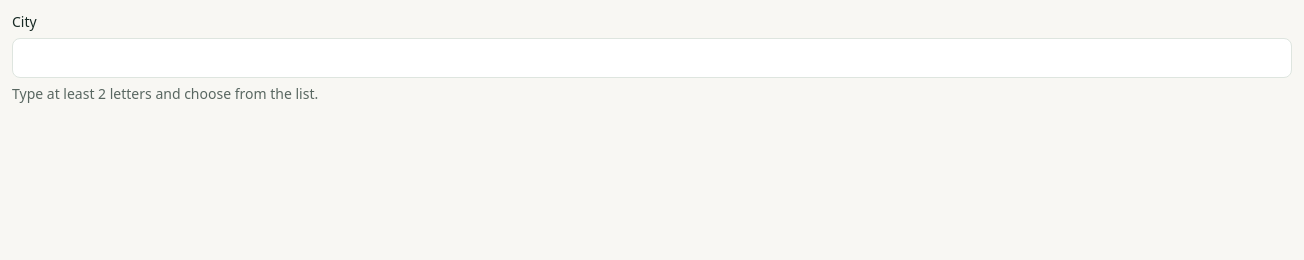
Scenario: the place picker › marks the highlighted option for screen readers
Type "pu" into the dropdown labelled "City" at (652, 58), box [12,38,1292,78]
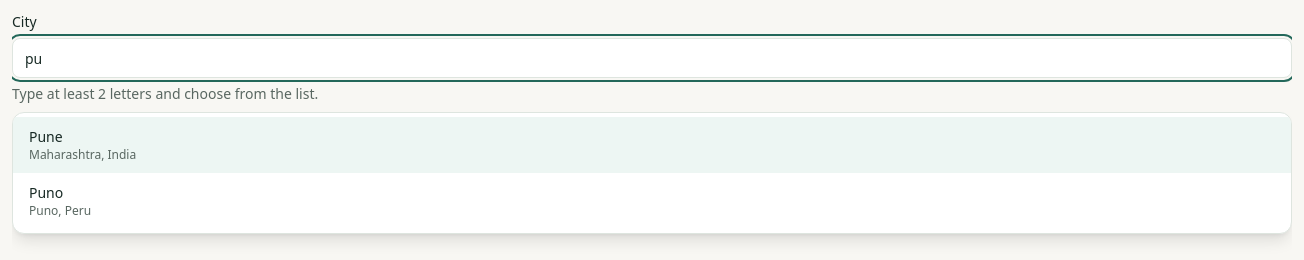
Result: the dropdown labelled "City" is expanded at [12,38,1292,78]
